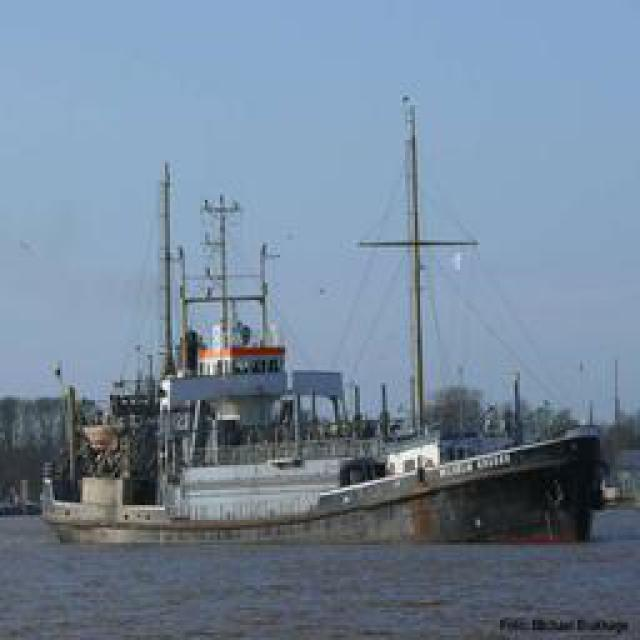Ship: (54, 69, 604, 542)
